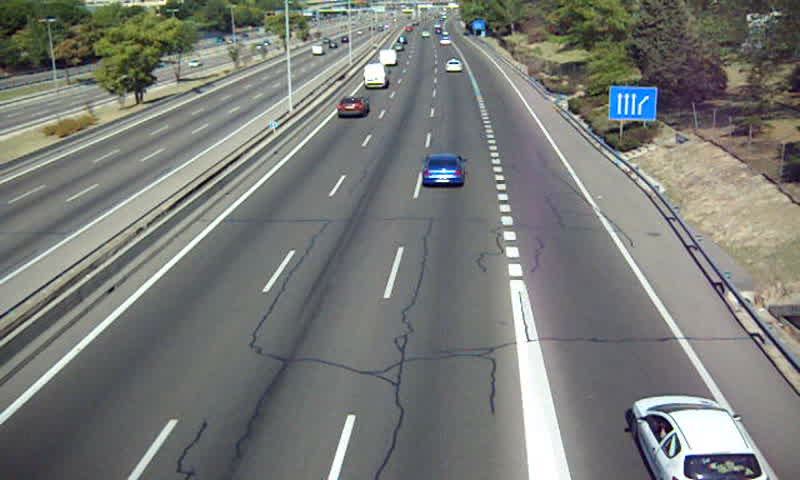car: (630, 395, 768, 480), (422, 153, 468, 188), (337, 95, 371, 118), (446, 60, 464, 73)
van: (362, 63, 392, 88), (380, 48, 396, 67)
